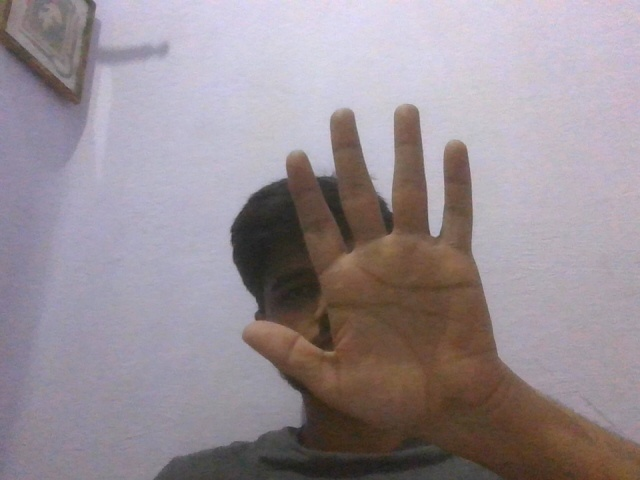hello: (221, 95, 520, 475)
